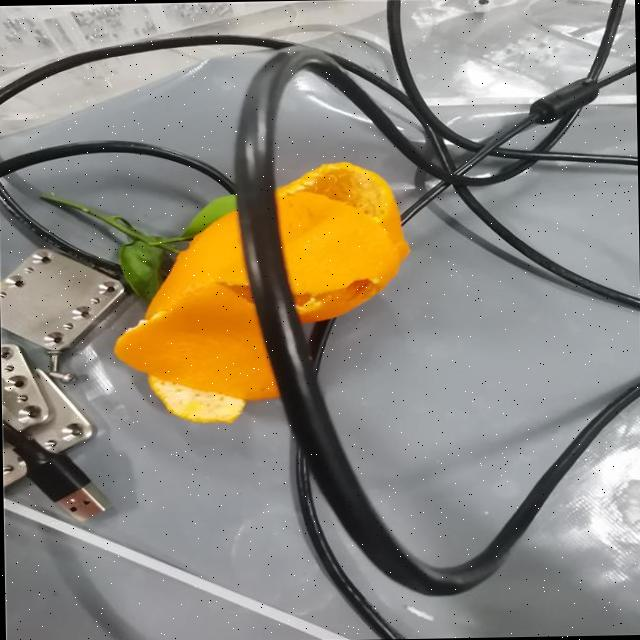orange-peel: (110, 158, 412, 420)
